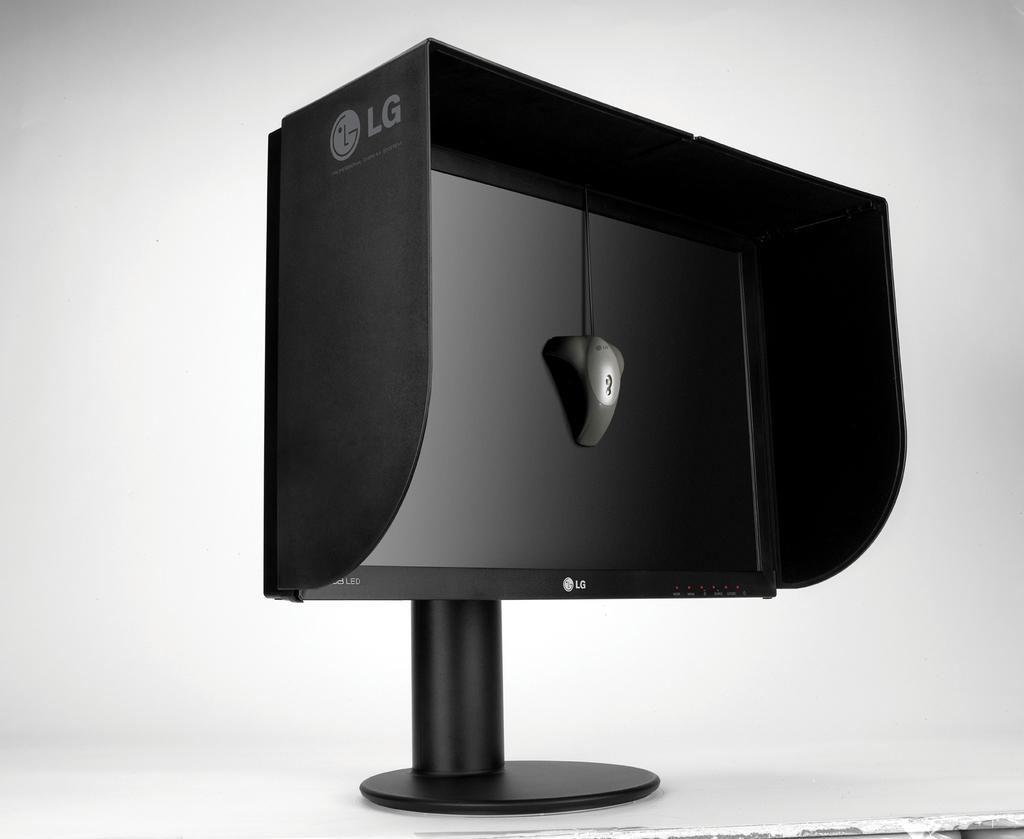Computer-monitor: (248, 123, 890, 616)
